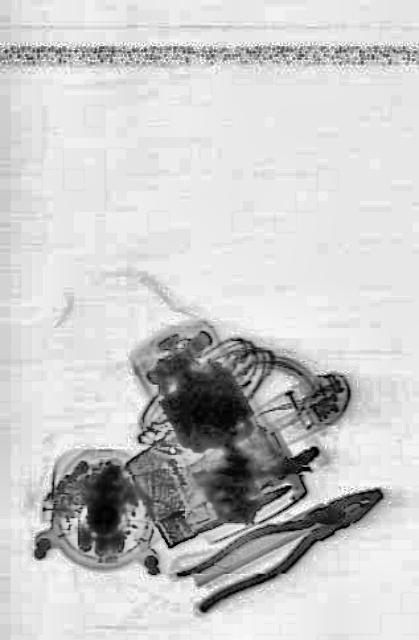Pliers: (174, 463, 390, 622)
